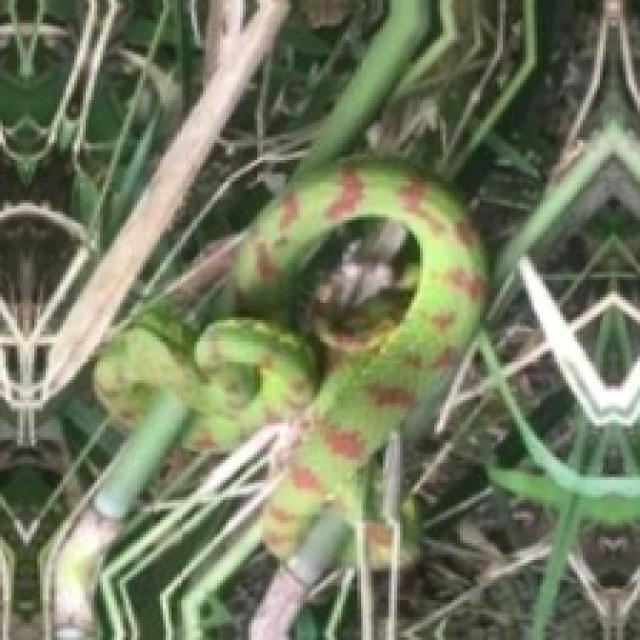philippine pitviper: (231, 157, 483, 557), (94, 318, 312, 449)
